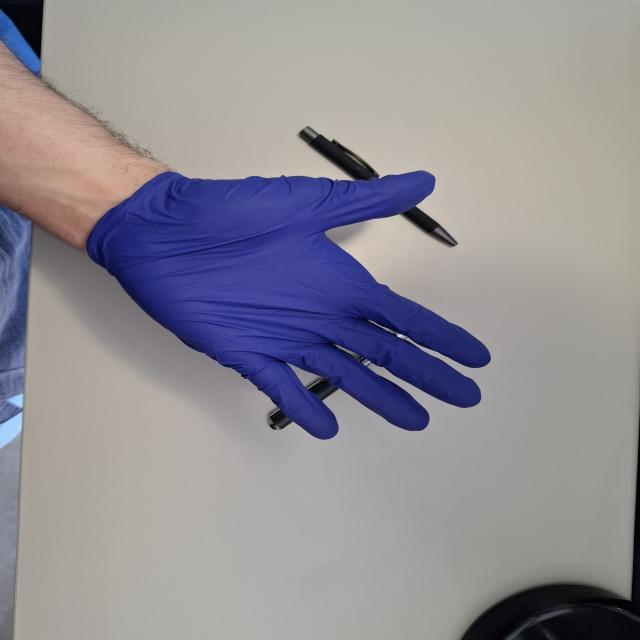glove_on: (81, 156, 494, 442)
